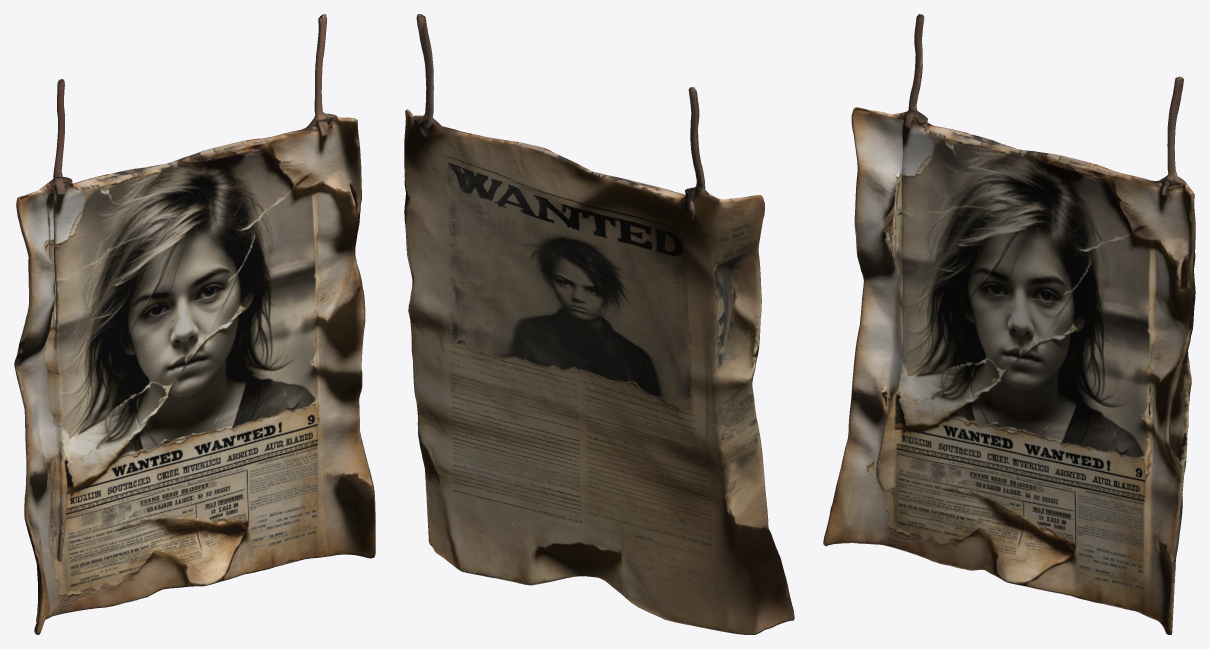
The model's file is poster.gltf.
3 views of the same model, side by side, from view 1: azimuth 30°, elevation 25°; view 2: azimuth 150°, elevation 25°; view 3: azimuth 330°, elevation 25° (orthographic). The views are drawn at different scales.
Visible parts, largest first — view 1: Mesh1.0; view 2: Mesh1.0; view 3: Mesh1.0.
Boxes of the visible parts, box(x1,y1,x2,y2) form: Mesh1.0: box(14, 14, 375, 634); Mesh1.0: box(404, 14, 794, 634); Mesh1.0: box(823, 14, 1195, 634).
Size of the model in its own units: 1.38 by 2.01 by 0.2825.
Materials: 1 (1 with a texture image).
